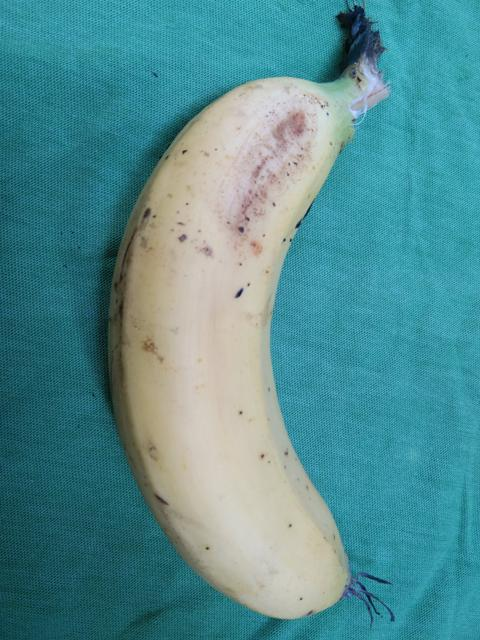ripe: (88, 65, 395, 639)
